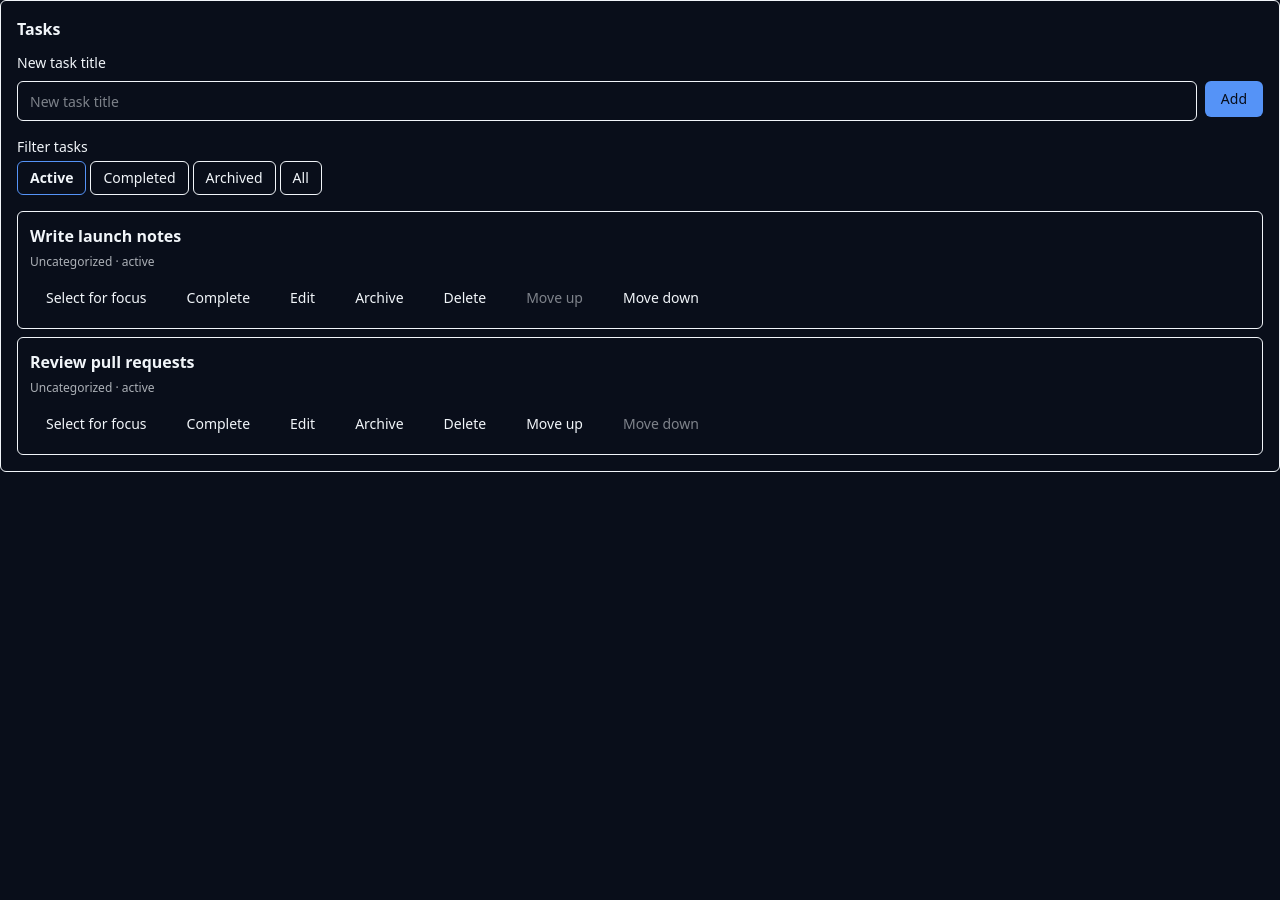
Test: <TaskPanel /> row actions (slice 4) › edits title, notes, and category with field-associated errors
The image size is (1280, 900).
Expected: the list item "Write launch notes" is shown, 30,225 -> 181,247
Click the button "Edit" below "Write launch notes" at coordinates (303, 298), box 274,280 -> 331,316
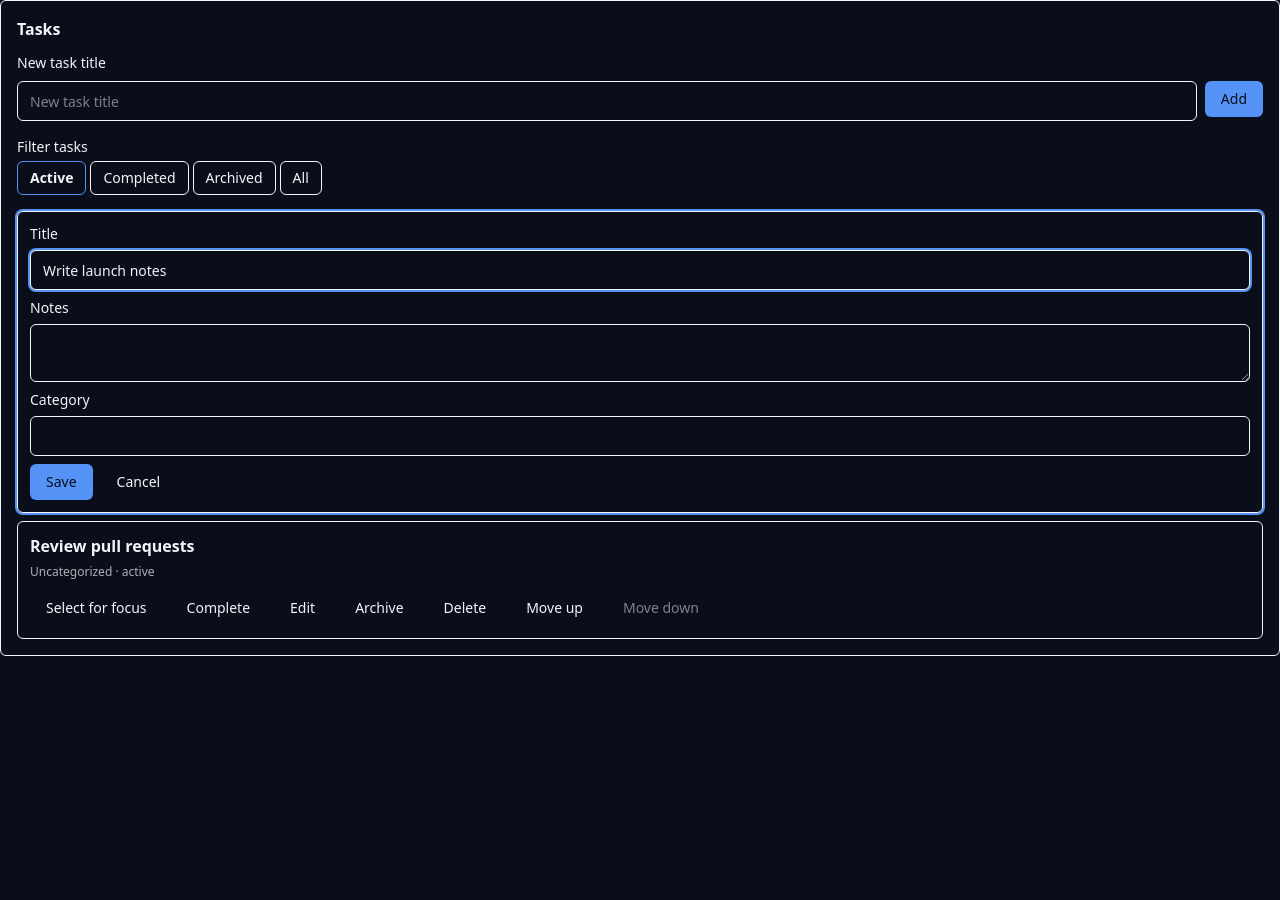
Replace the text in the field labelled "Title" with "Launch notes v2" at coordinates (640, 270), box 30,250 -> 1250,290
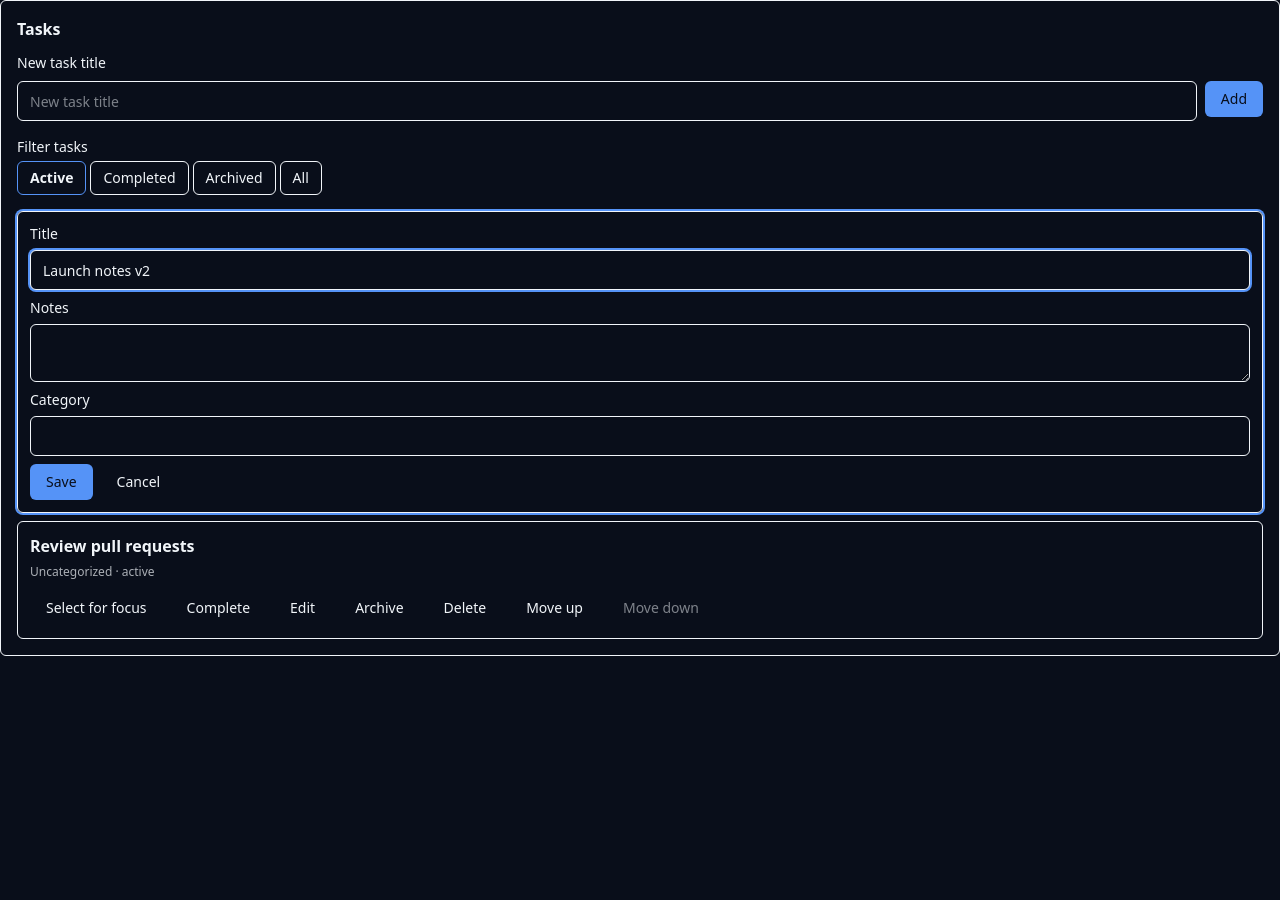
Type "Ship it" into the text box labelled "Notes" at coordinates (640, 353), box 30,324 -> 1250,382
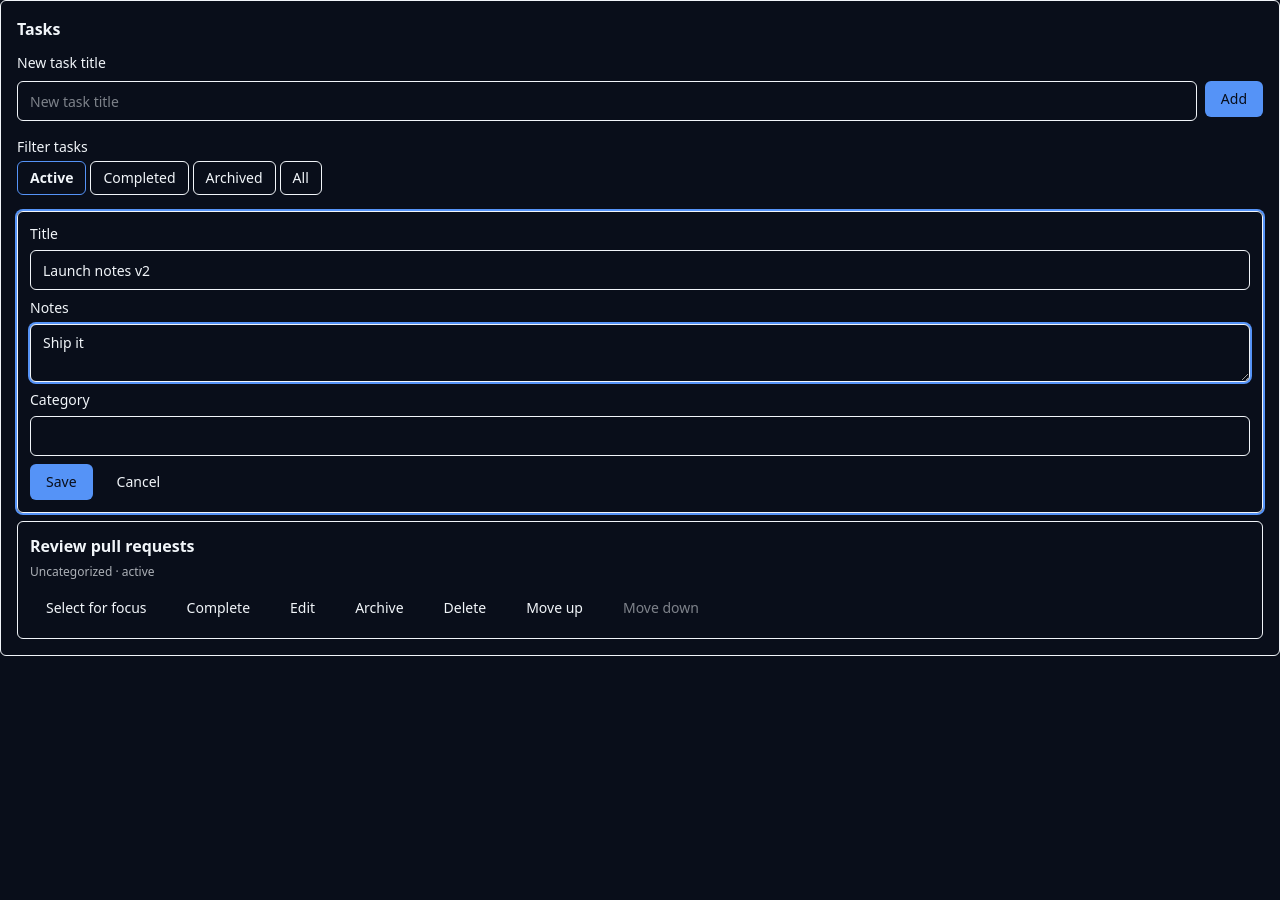
Type "Writing" into the field labelled "Category" at coordinates (640, 436), box 30,416 -> 1250,456
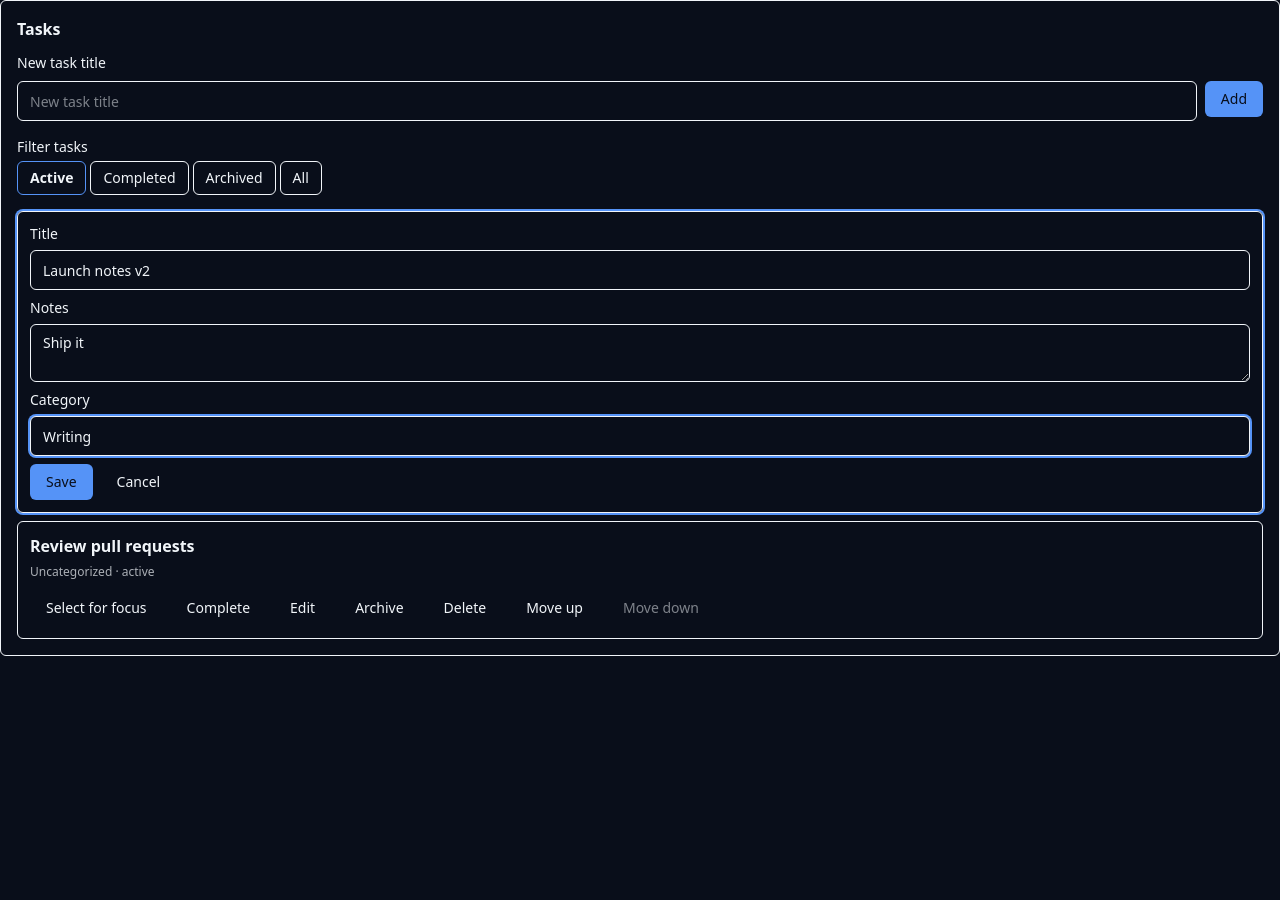
Click the button "Save" at coordinates (61, 482), box 30,464 -> 93,500
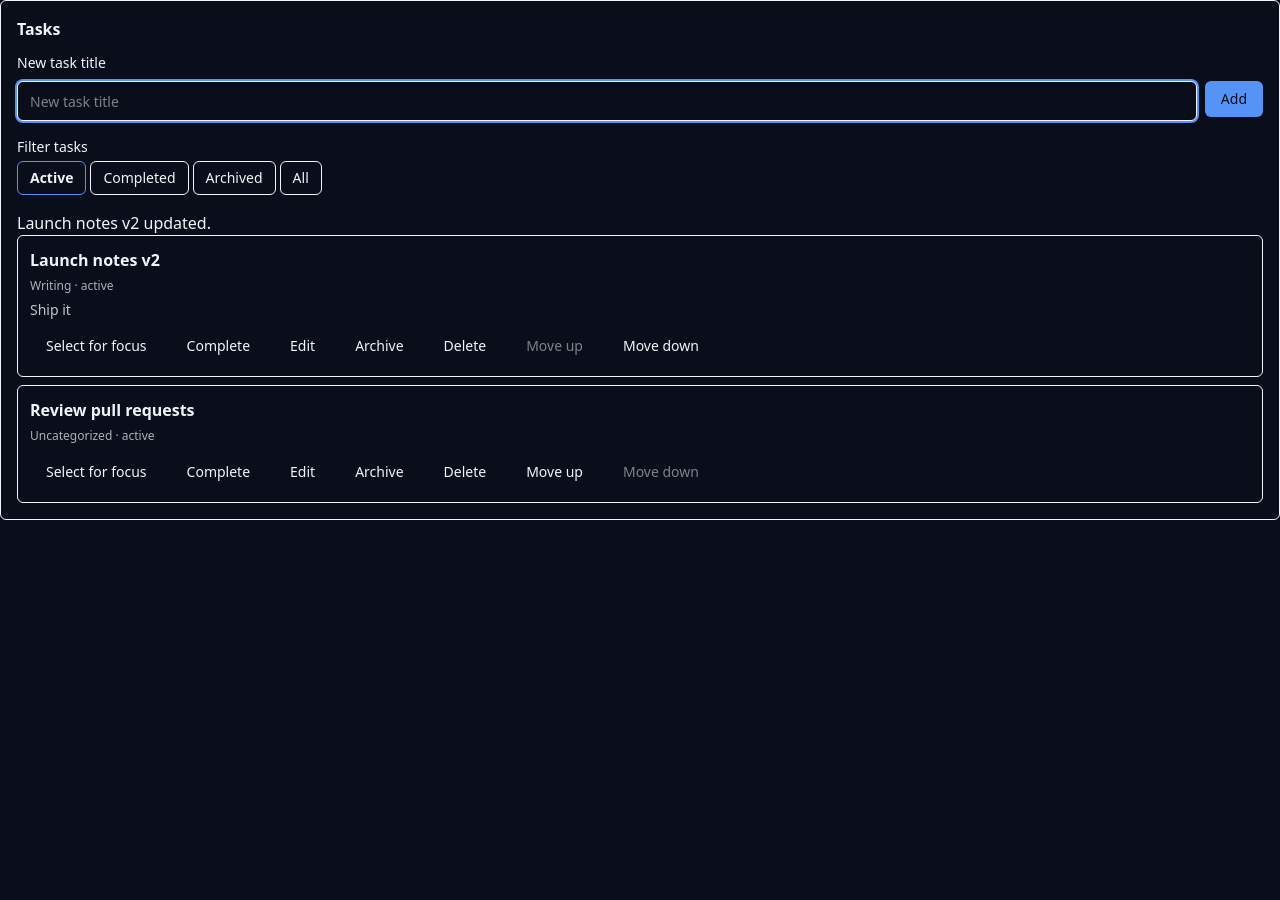
Expected: the text "Launch notes v2 updated." is shown, 17,212 -> 211,234
Expected: the text "Launch notes v2" is shown, 30,249 -> 160,271
